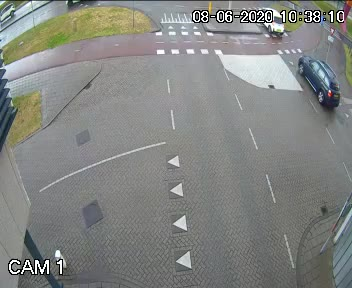car: (288, 45, 341, 116), (257, 2, 289, 39)
